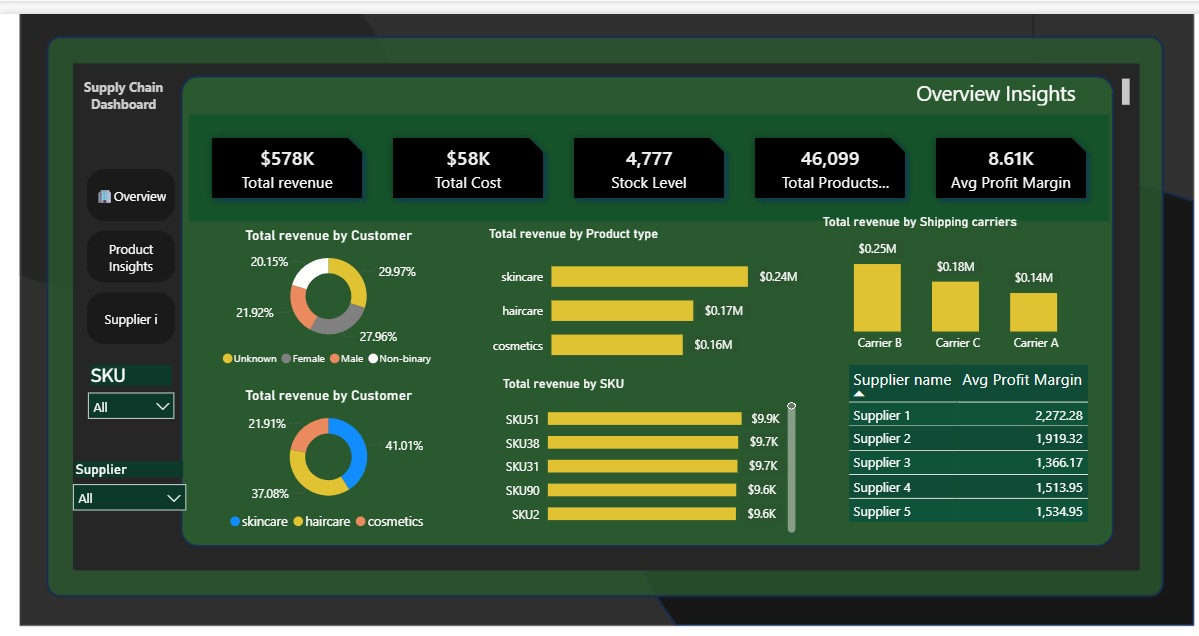

The page's visual inventory and layout, read from the dashboard file:
{"tool":"powerbi","page":{"name":"🏢Overview","canvas":[1280,720],"ordinal":0},"visuals":[{"type":"cardVisual","fields":{"Data":["Measeures.Total revenue","Measeures.Total Cost","Measeures.Stock Level","Measeures.Total Products Sold","Measeures.Avg Profit Margin"]},"box":[184.4,87,990.9,120.8],"z":0},{"type":"pageNavigator","box":[92.2,161,92.2,183.1],"z":0,"group":"g1"},{"type":"donutChart","title":"Total revenue by Customer ","fields":{"Y":["Measeures.Total revenue"],"Category":["supply_chain_data.Customer demographics"]},"box":[208.6,220.9,269,155.1],"z":1000},{"type":"slicer","fields":{"Values":["supply_chain_data.SKU"]},"box":[83.1,359.7,110.4,66.2],"z":1000,"group":"g1"},{"type":"donutChart","title":"Total revenue by Customer ","fields":{"Y":["Measeures.Avg Defect rate %"],"Category":["supply_chain_data.Product type"]},"box":[208.6,387,269,159.2],"z":2000},{"type":"slicer","fields":{"Values":["supply_chain_data.Supplier name"]},"box":[67.5,459.7,137.7,71.4],"z":2000,"group":"g1"},{"type":"textbox","box":[67.5,62.3,126,49.4],"z":3000,"group":"g1"},{"type":"clusteredBarChart","fields":{"Y":["Measeures.Total revenue"],"Category":["supply_chain_data.Product type"]},"box":[505,220.9,334.8,155.1],"z":3000},{"type":"clusteredBarChart","fields":{"Y":["Measeures.Total revenue"],"Category":["supply_chain_data.SKU"]},"box":[519.5,376.6,266.2,166.2],"z":4000},{"type":"clusteredColumnChart","fields":{"Y":["Measeures.Total revenue"],"Category":["supply_chain_data.Shipping carriers"]},"box":[852.1,207.2,290.9,152.3],"z":5000},{"type":"stackedAreaChart","fields":{"Category":["supply_chain_data.Mfg lead time"],"Y":["Sum(supply_chain_data.Products sold)"]},"box":[824.7,359.7,302.6,187],"z":6000},{"type":"textbox","box":[949.4,62.3,231.2,37.7],"z":7000},{"type":"group","id":"g1","title":"Group 1","box":[67.5,62.3,137.7,468.8],"z":7005}]}

Visuals, with their boxes on the page's 1280x720 design canvas (x1, y1, x2, y2). These are canvas units, not pixel positions in the 1199x636 screenshot, which may show the page scaled, cropped or inside an application window:
cardVisual - Measeures.Total revenue x Measeures.Total Cost: (left=184, top=87, right=1175, bottom=208)
pageNavigator: (left=92, top=161, right=184, bottom=344)
"Total revenue by Customer " donutChart: (left=209, top=221, right=478, bottom=376)
slicer - supply_chain_data.SKU: (left=83, top=360, right=194, bottom=426)
"Total revenue by Customer " donutChart: (left=209, top=387, right=478, bottom=546)
slicer - supply_chain_data.Supplier name: (left=68, top=460, right=205, bottom=531)
textbox: (left=68, top=62, right=194, bottom=112)
clusteredBarChart - Measeures.Total revenue x supply_chain_data.Product type: (left=505, top=221, right=840, bottom=376)
clusteredBarChart - Measeures.Total revenue x supply_chain_data.SKU: (left=520, top=377, right=786, bottom=543)
clusteredColumnChart - Measeures.Total revenue x supply_chain_data.Shipping carriers: (left=852, top=207, right=1143, bottom=360)
stackedAreaChart - supply_chain_data.Mfg lead time x Sum(supply_chain_data.Products sold): (left=825, top=360, right=1127, bottom=547)
textbox: (left=949, top=62, right=1181, bottom=100)
"Group 1" group: (left=68, top=62, right=205, bottom=531)
